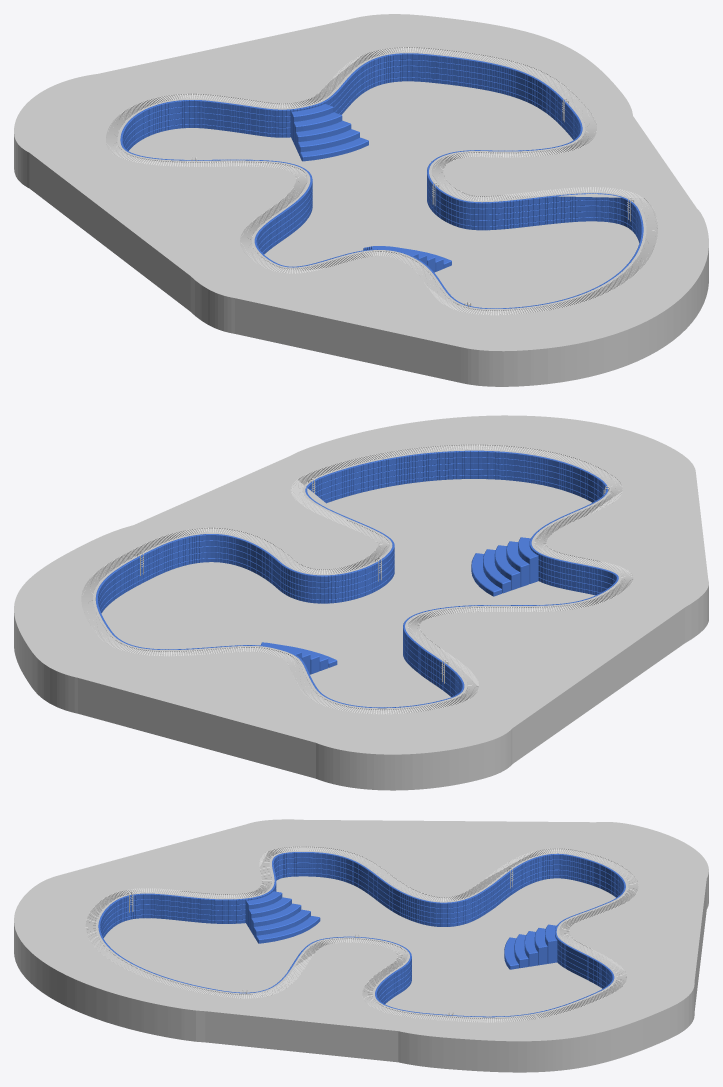
Rendered from Großes_Ovales_Schwimmbecken.fbx.
3 renders of one model, top to bottom at view 1: azimuth 30°, elevation 25°; view 2: azimuth 150°, elevation 25°; view 3: azimuth 270°, elevation 25°, orthographic. The views are drawn at different scales.
Visible parts, largest first — view 1: Cube.221; view 2: Cube.221; view 3: Cube.221.
Part boxes in pixels (box(x1,y1,x2,y2)): Cube.221: box(14, 14, 708, 386); Cube.221: box(14, 415, 708, 790); Cube.221: box(14, 819, 708, 1072).
Size of the model in its own units: 4572 by 328 by 6052.
